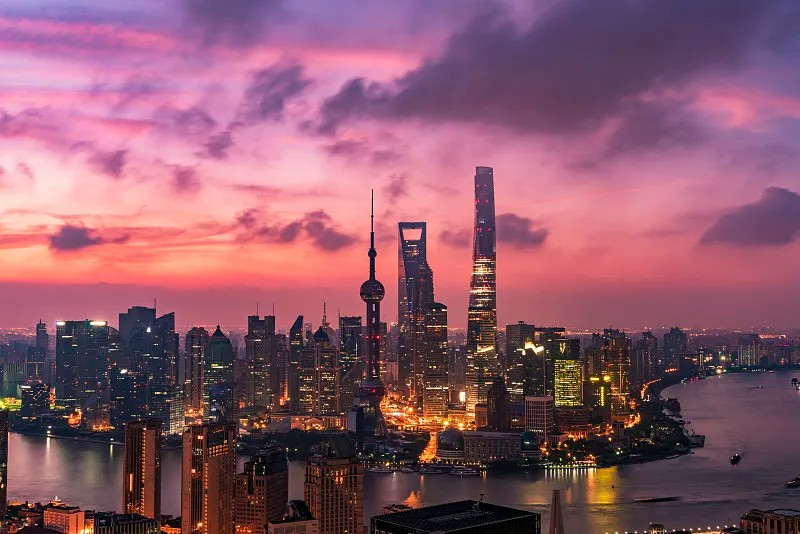Oriental: (359, 189, 386, 431)
